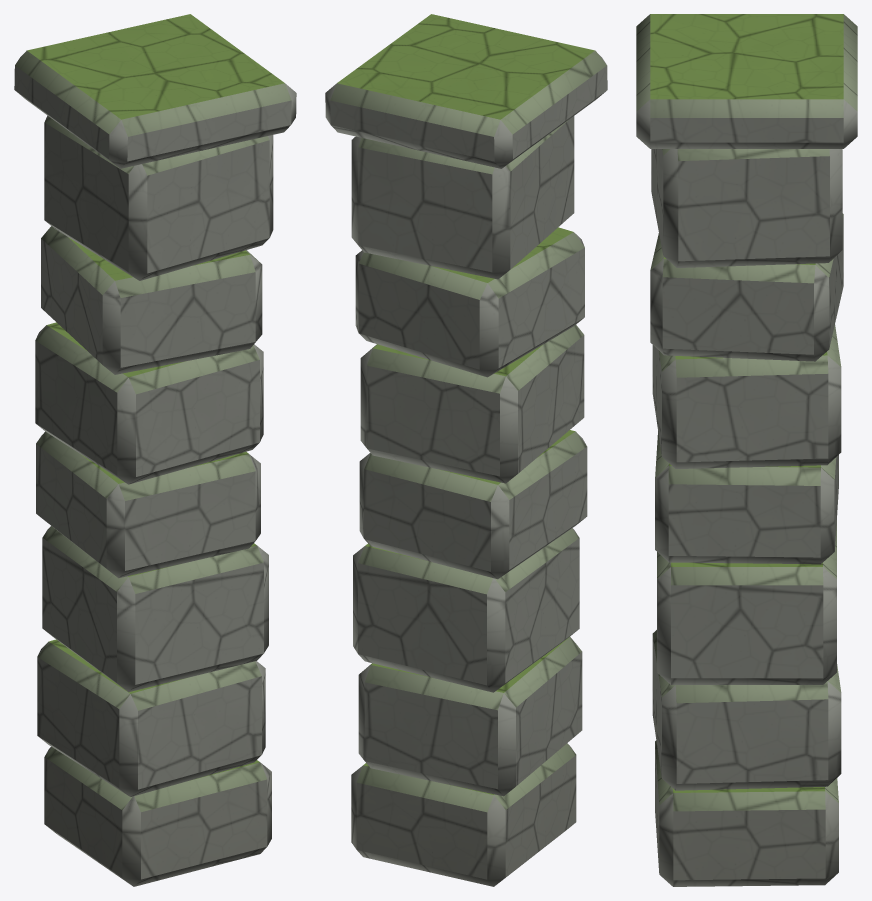
File: stone_pillar_tall.glb
3 renders of one model, left to right at view 1: azimuth 30°, elevation 25°; view 2: azimuth 150°, elevation 25°; view 3: azimuth 270°, elevation 25°, orthographic. The views are drawn at different scales.
Visible parts, largest first — view 1: stone_pillar_tall; view 2: stone_pillar_tall; view 3: stone_pillar_tall.
Boxes of the visible parts, <box> form: stone_pillar_tall: <box>14,14,296,886</box>; stone_pillar_tall: <box>325,14,607,886</box>; stone_pillar_tall: <box>636,14,857,886</box>.
Size of what is drawn, in the model's own units: 1.6 by 6.37 by 1.6.
1 material, 1 textured.
